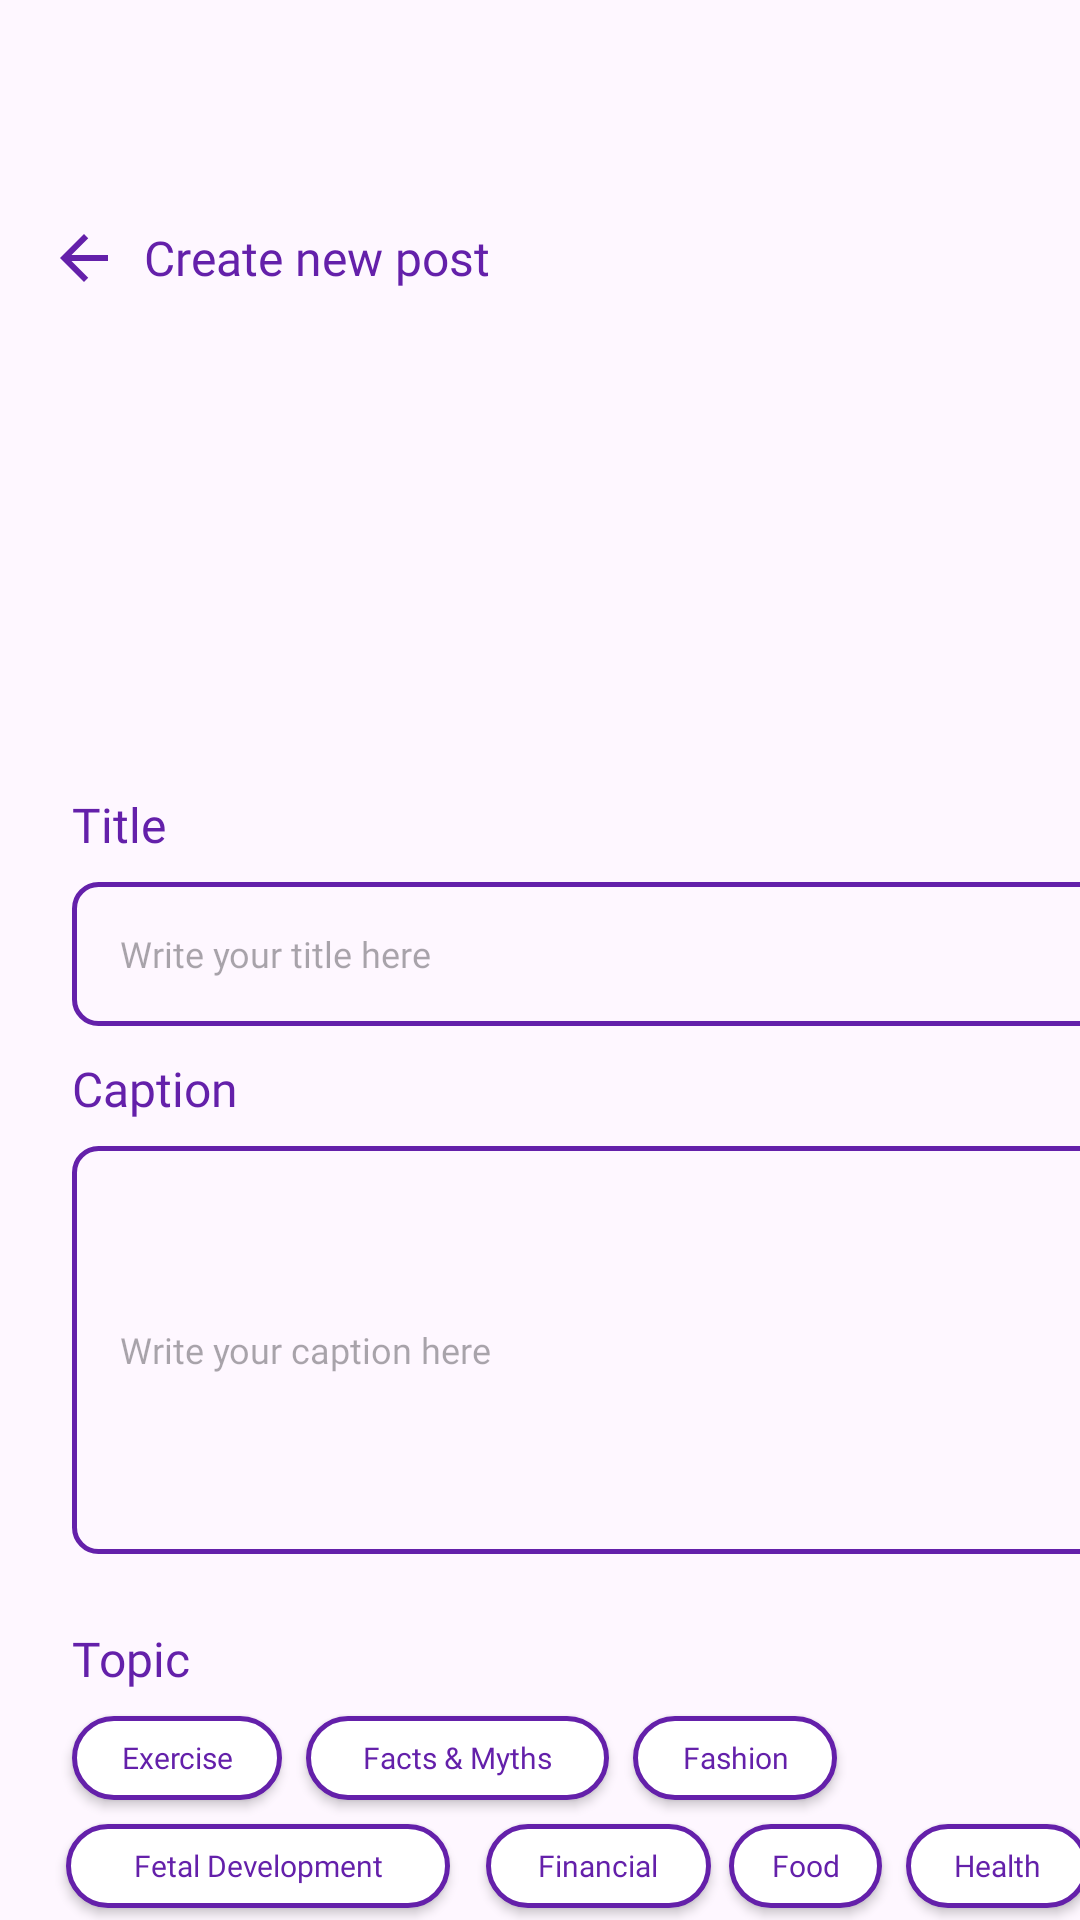

Named icons in this screenshot (1080 × 1920) and their centers, (x,y):
arrowback: (84,258)
